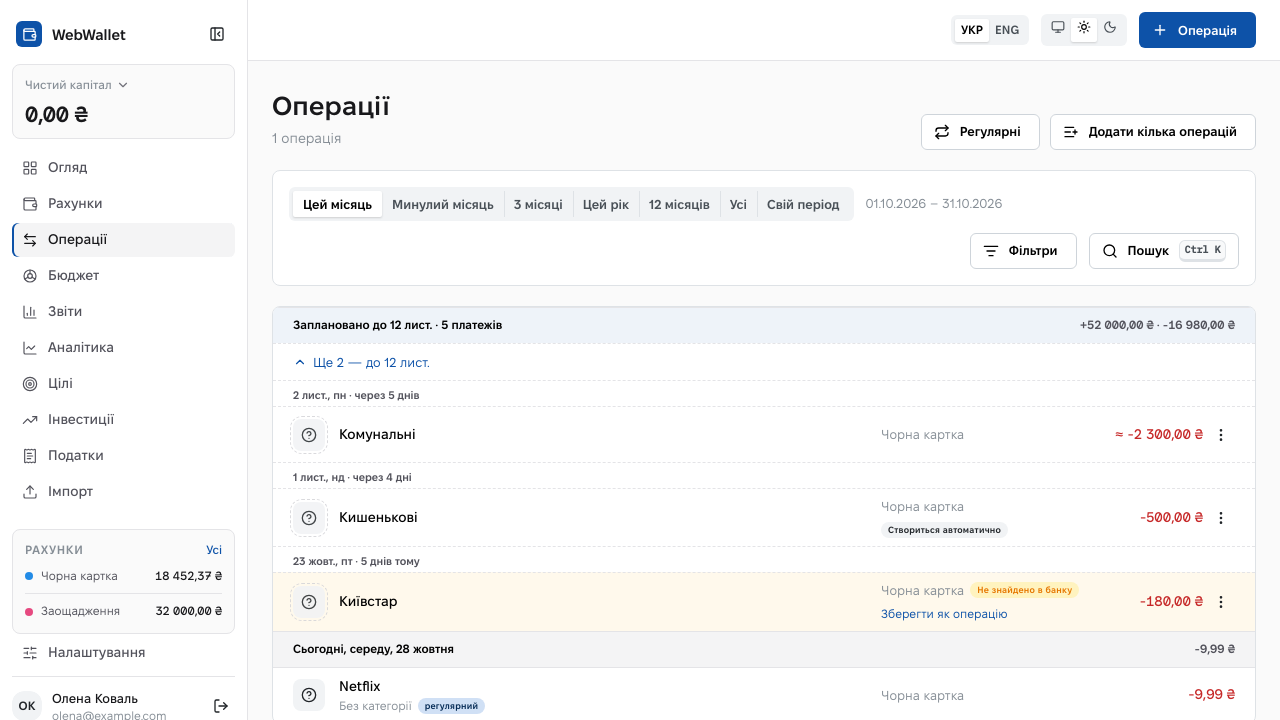
it: marks transactions that pay a recurring payment and folds the filters away
Expected: the text "регулярний" is shown, left=425, top=699, right=478, bottom=713
Click the button "Фільтри".
click(1023, 251)  # box left=970, top=233, right=1076, bottom=269
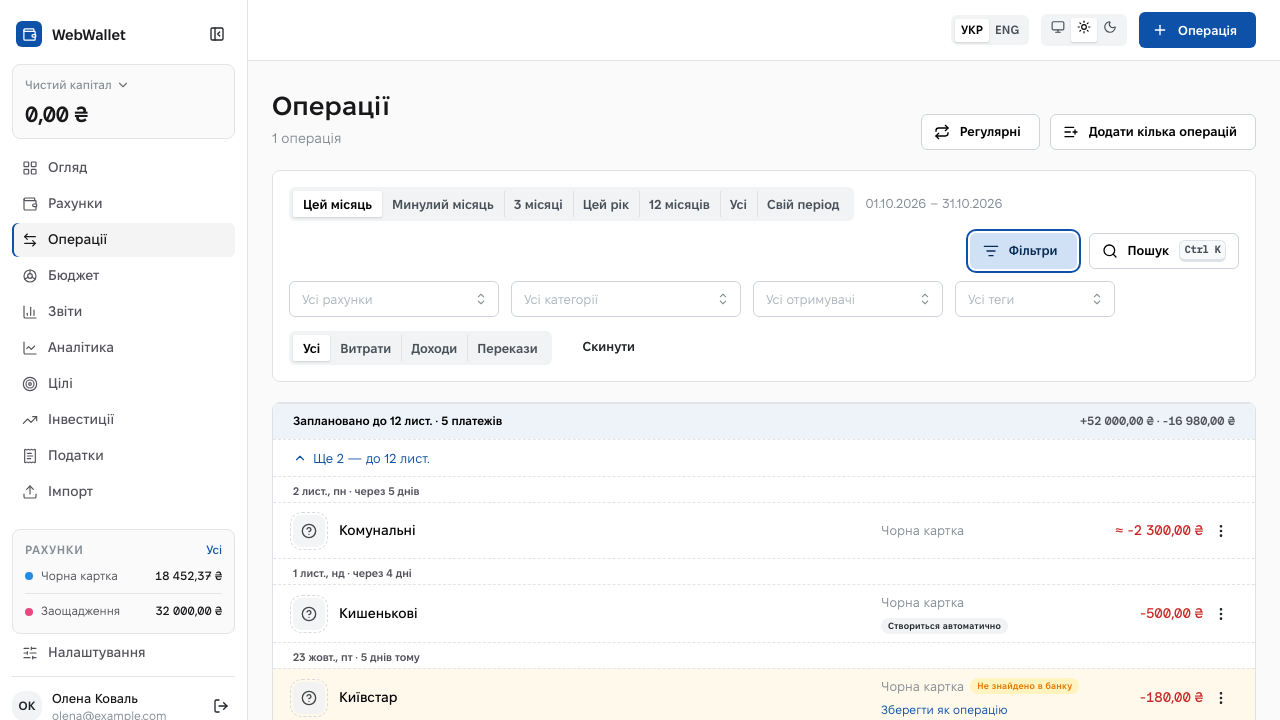
Result: the button "Фільтри" is expanded at left=970, top=233, right=1076, bottom=269
